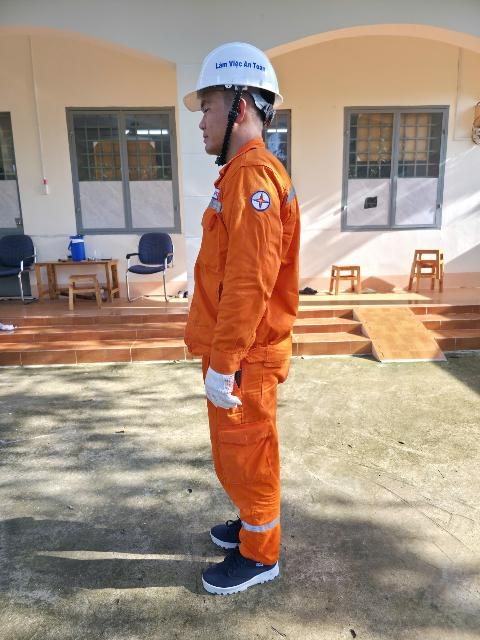gloves: (193, 349, 242, 410)
helmet: (173, 42, 286, 112)
shoes: (189, 543, 292, 594), (204, 512, 282, 549)
